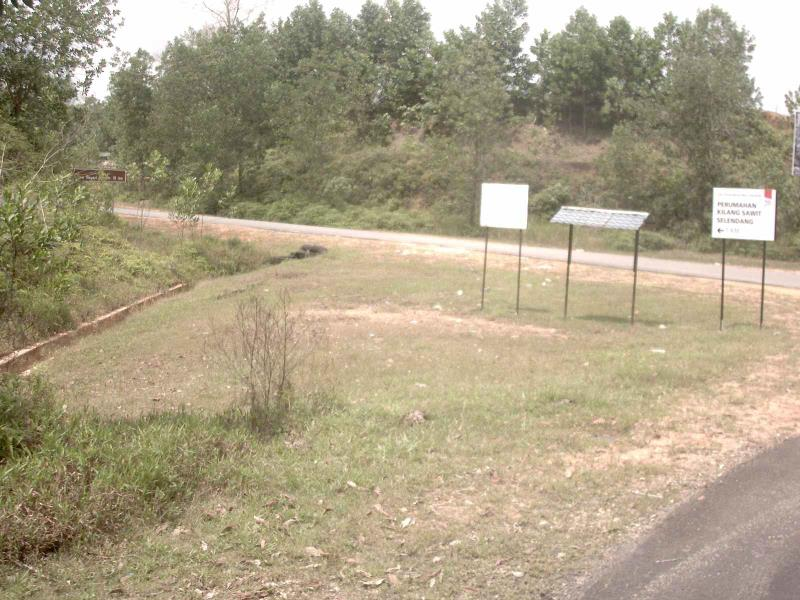ads_sign: (700, 178, 784, 249)
